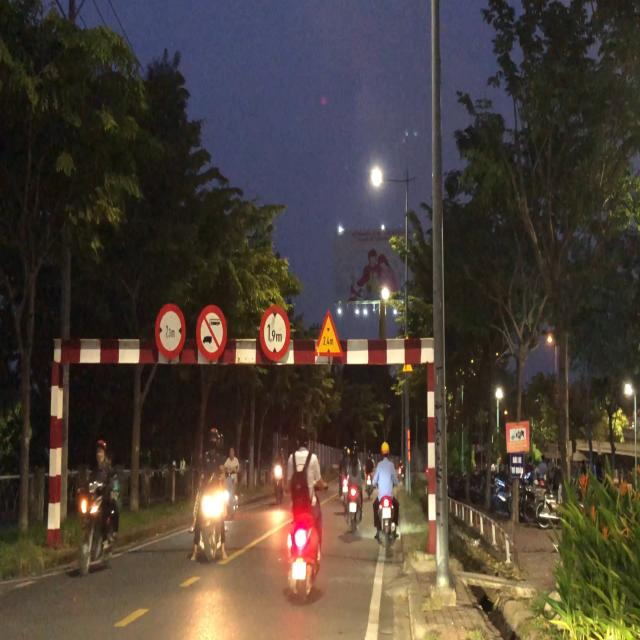Bien bao cam xe oto khach va xe oto tai: (194, 298, 228, 367)
Bien bao chieu cao tinh khong thuc te: (314, 304, 345, 364)
Bien bao han che chieu cao: (258, 301, 292, 367)
